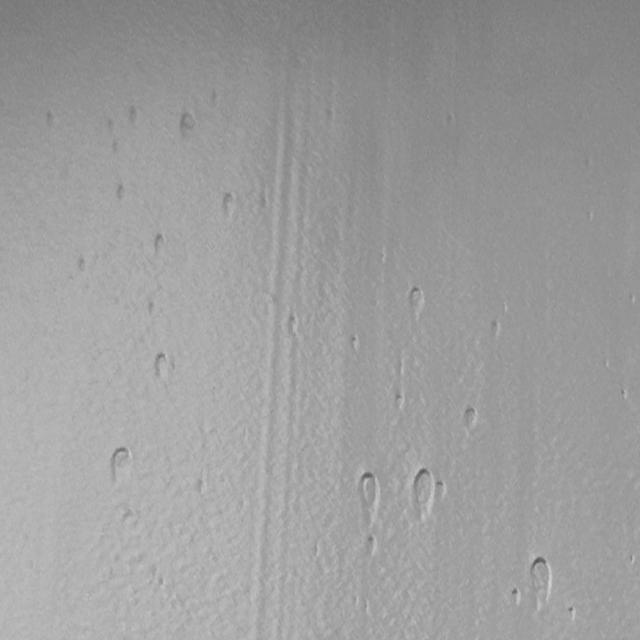pin holes: (407, 468, 439, 522), (108, 442, 139, 489), (354, 471, 383, 516), (528, 556, 556, 601), (150, 351, 174, 384), (405, 284, 427, 315), (178, 110, 200, 140), (218, 190, 238, 220), (460, 404, 479, 431), (40, 109, 59, 133), (360, 533, 378, 558), (283, 312, 301, 337), (153, 232, 170, 257), (486, 318, 503, 342), (125, 106, 142, 128), (115, 184, 132, 206), (508, 586, 523, 609), (146, 297, 162, 318), (393, 392, 408, 413), (435, 478, 449, 500), (76, 257, 92, 275), (618, 387, 632, 405), (104, 117, 116, 137), (112, 137, 124, 156), (348, 334, 360, 352), (567, 607, 579, 624), (627, 294, 638, 310), (260, 191, 268, 212), (210, 90, 218, 109), (447, 114, 454, 130), (587, 210, 594, 222), (364, 598, 370, 612), (604, 359, 609, 370), (629, 554, 635, 563), (354, 596, 359, 606)
